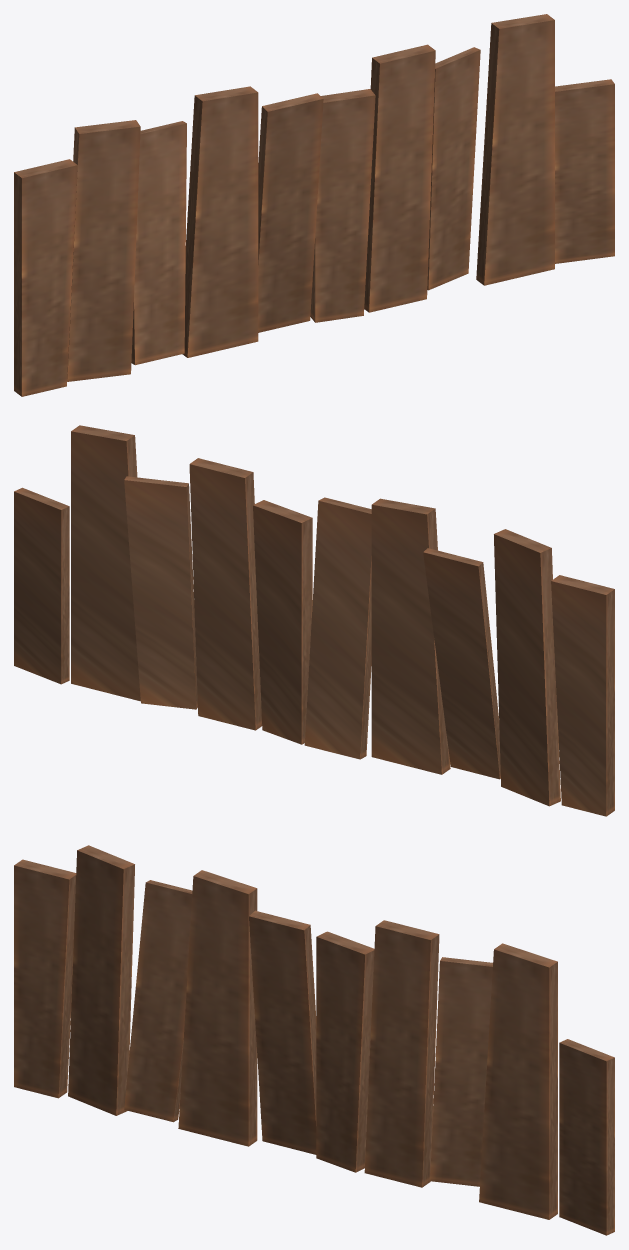
File: FH_Env_obj_01.FBX
3 views of the same model, one above another, from view 1: azimuth 30°, elevation 25°; view 2: azimuth 150°, elevation 25°; view 3: azimuth 330°, elevation 25° (orthographic).
Parts seen in each view (by area): view 1: Object143, Object144; view 2: Object143, Object144; view 3: Object143, Object144.
Part boxes in pixels (x1=…): Object143: x1=14, y1=86, x2=323, y2=396; Object144: x1=310, y1=14, x2=614, y2=322; Object143: x1=304, y1=497, x2=614, y2=816; Object144: x1=14, y1=425, x2=312, y2=744; Object143: x1=14, y1=845, x2=316, y2=1154; Object144: x1=316, y1=920, x2=614, y2=1235.
Size of the model in its own units: 9.22 by 3.77 by 0.6384.
